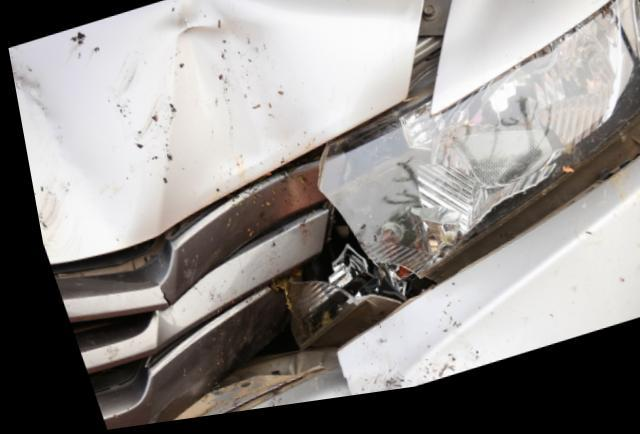crack: (322, 358, 340, 404), (147, 287, 161, 310)
dent: (149, 0, 318, 230)
lamp broken: (316, 0, 640, 296)
scratch: (10, 72, 74, 244)
